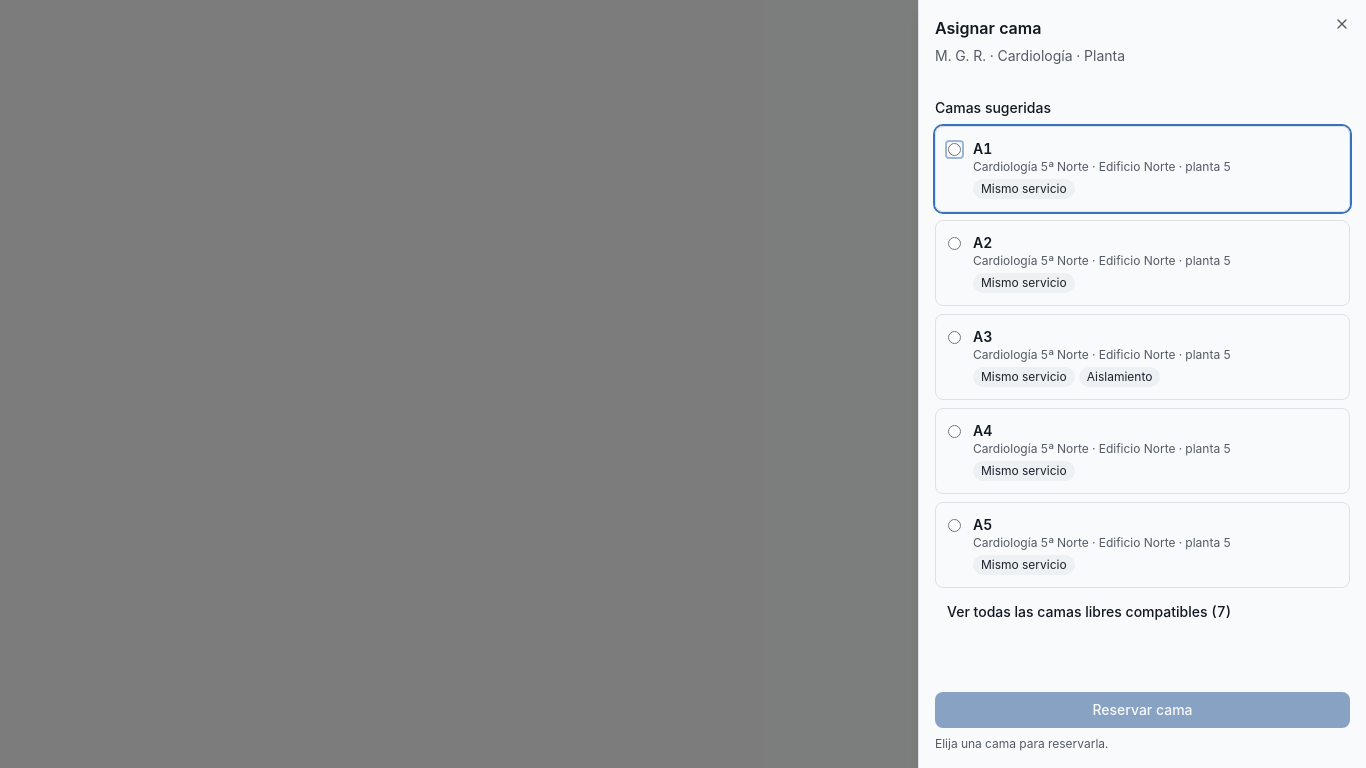
Test: AssignBedSheet › "Ver todas" reveals the remaining compatible beds, including outliers
The width and height of the screenshot is (1366, 768).
Click the button "Ver todas las camas libres compatibles (7)" at (1089, 612), box x1=935 y1=596 x2=1243 y2=628
(page scrolled)
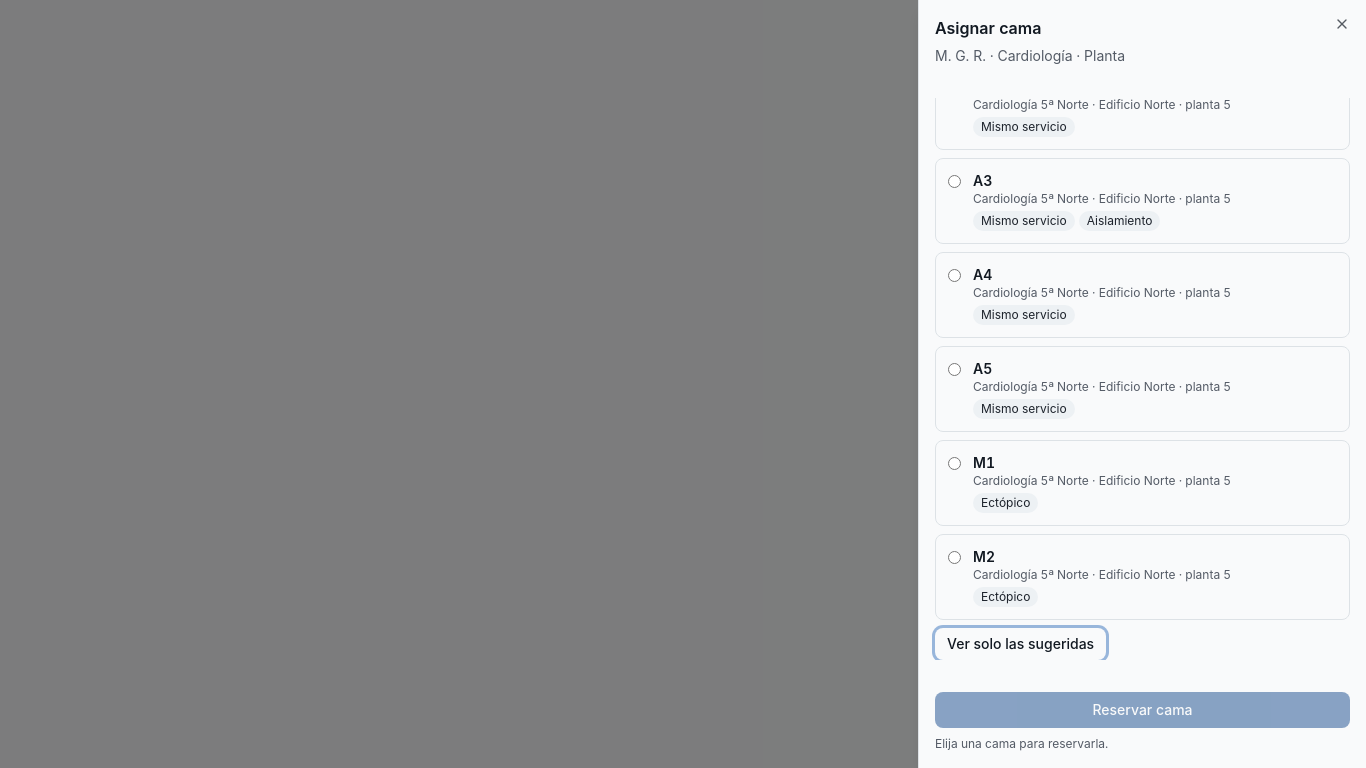
Expected: the text "Ectópico" is shown 2 times, x1=973 y1=493 x2=1038 y2=513; x1=973 y1=587 x2=1038 y2=607
Click the button "Ver solo las sugeridas" at (1021, 644), box x1=935 y1=628 x2=1106 y2=660
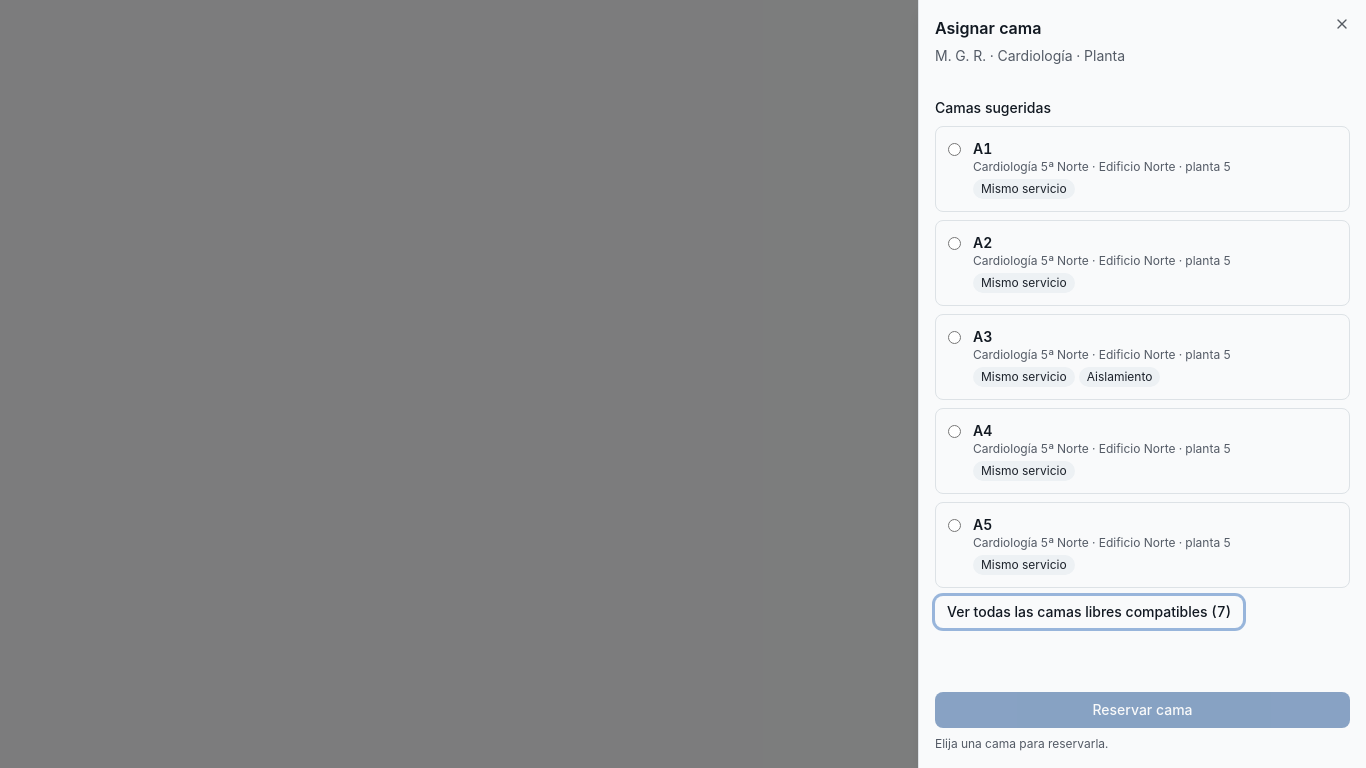
Expected: the number of radio buttons is 5, x1=948 y1=143 x2=961 y2=156; x1=948 y1=237 x2=961 y2=250; x1=948 y1=331 x2=961 y2=344; x1=948 y1=425 x2=961 y2=438; x1=948 y1=519 x2=961 y2=532
